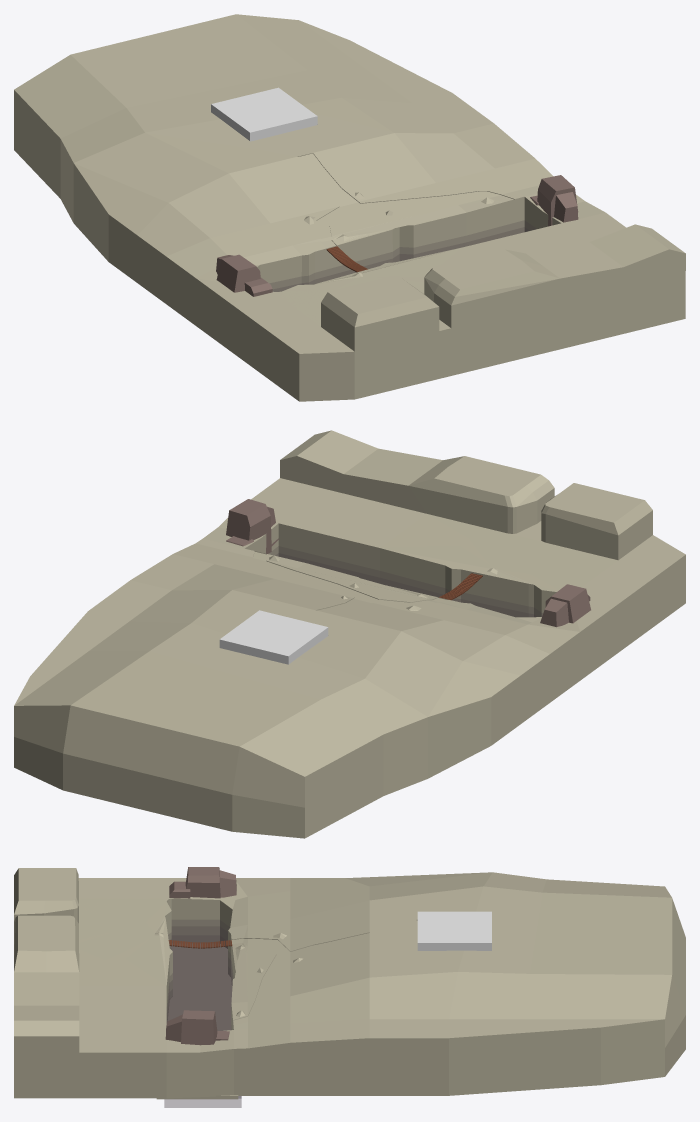
The model's file is abism_model.glb.
3 views of the same model, one above another, from view 1: azimuth 30°, elevation 25°; view 2: azimuth 150°, elevation 25°; view 3: azimuth 270°, elevation 25° (orthographic). The views are drawn at different scales.
Visible parts, largest first — view 1: Cube.004-noimp, Cube, Cube.003-noimp, Cube.009, Cube.002, Cube.001, Cube.010; view 2: Cube, Cube.004-noimp, Cube.003-noimp, Cube.009, Cube.002, Cube.001, Cube.010; view 3: Cube.004-noimp, Cube, Cube.009, Cube.010, Cube.003-noimp, Cube.001, Cube.002, Cube.011, bridge-noimp.
Part boxes in pixels (x1,y1,x2,y2): Cube.004-noimp: (14, 14, 685, 401); Cube: (14, 14, 685, 401); Cube.003-noimp: (211, 87, 317, 141); Cube.009: (270, 221, 535, 291); Cube.002: (530, 175, 578, 226); Cube.001: (216, 254, 272, 296); Cube.010: (273, 228, 528, 291); Cube: (14, 430, 685, 838); Cube.004-noimp: (14, 430, 685, 838); Cube.003-noimp: (219, 610, 328, 664); Cube.009: (269, 546, 542, 616); Cube.002: (226, 499, 278, 553); Cube.001: (540, 584, 590, 627); Cube.010: (276, 554, 535, 616); Cube.004-noimp: (14, 868, 685, 1099); Cube: (14, 868, 685, 1099); Cube.009: (167, 920, 233, 1030); Cube.010: (167, 927, 241, 1098); Cube.003-noimp: (417, 911, 491, 950); Cube.001: (169, 867, 236, 898); Cube.002: (165, 1010, 229, 1045); Cube.011: (164, 1096, 241, 1107); bridge-noimp: (168, 940, 232, 948).
Size of the model in its own units: 200 by 51.42 by 324.
